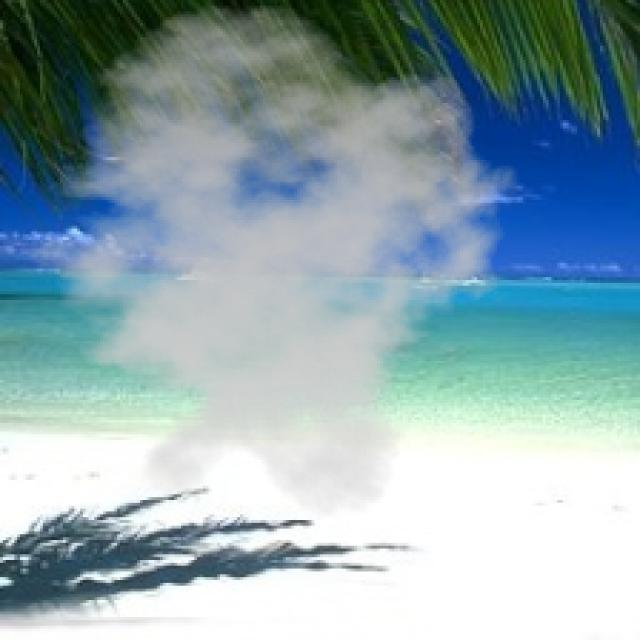Smoke: (0, 3, 532, 521)
